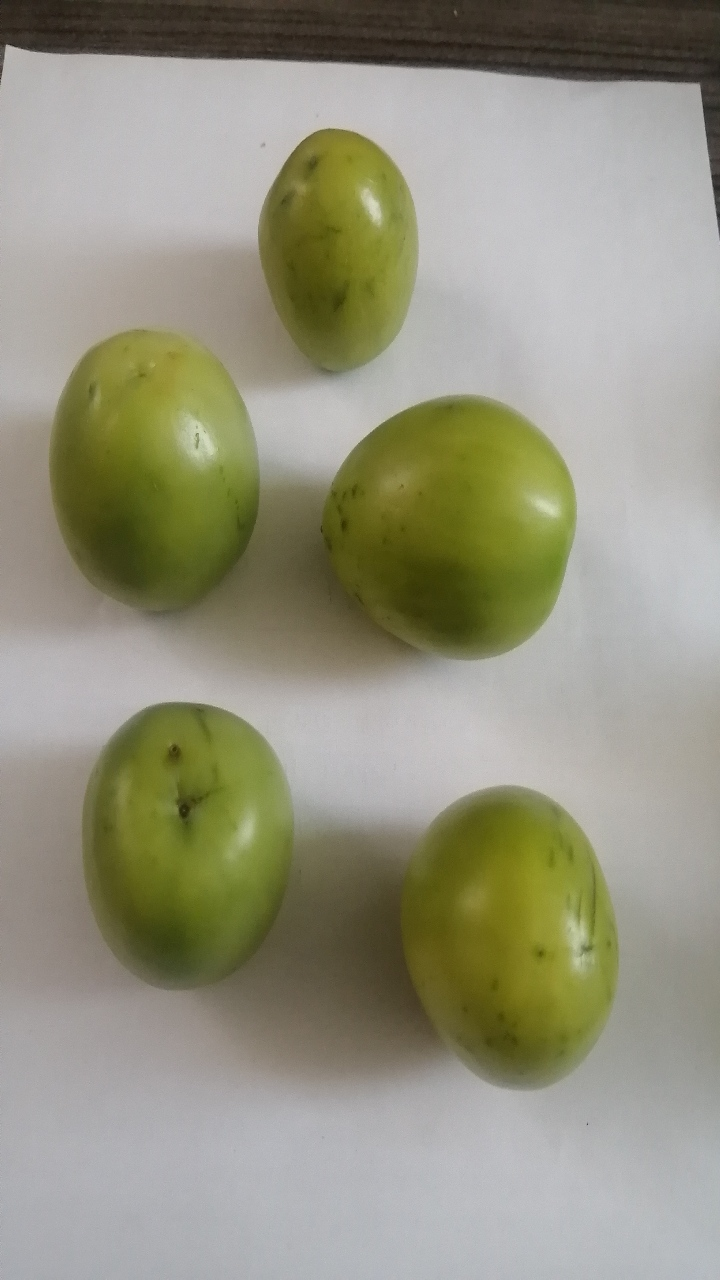tomateVerde: (308, 368, 589, 688), (374, 771, 635, 1082), (28, 314, 277, 635), (66, 688, 294, 1012), (241, 102, 435, 391)
